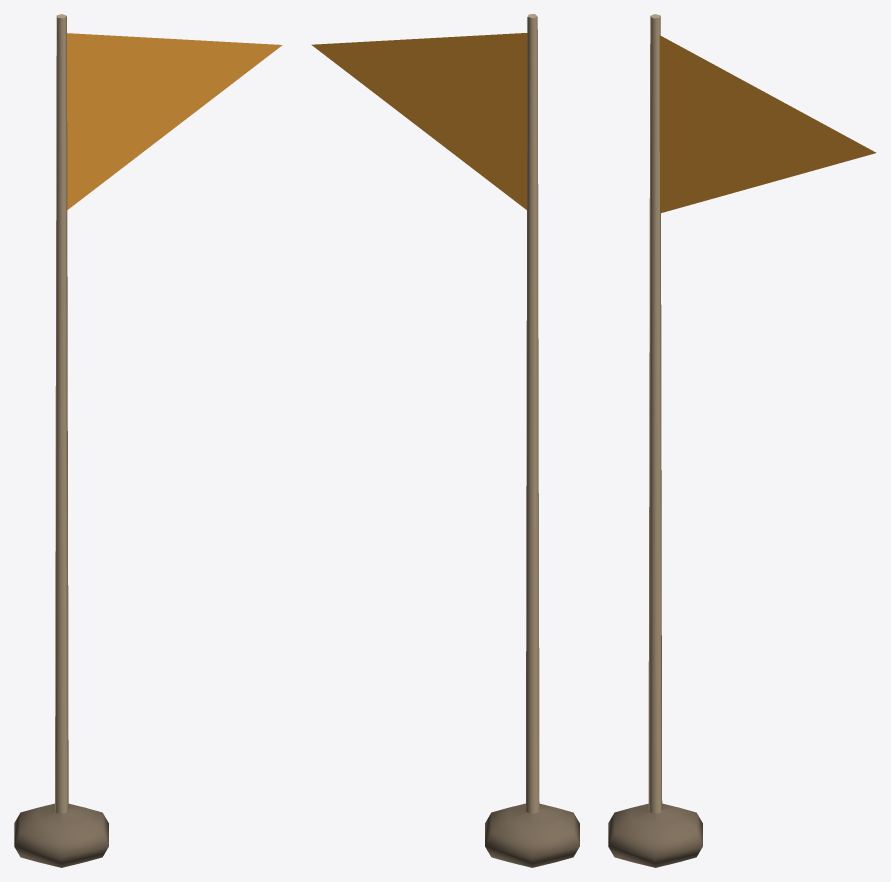
The model's file is cabin_search_flag_a.glb.
3 renders of one model, left to right at view 1: azimuth 30°, elevation 25°; view 2: azimuth 150°, elevation 25°; view 3: azimuth 330°, elevation 25°, orthographic.
Parts seen in each view (by area): view 1: body; view 2: body; view 3: body.
Boxes of the visible parts, <box> form: body: <box>14,14,282,867</box>; body: <box>311,14,579,867</box>; body: <box>608,14,876,867</box>.
Size of the model in its own units: 0.34 by 1.02 by 0.1039.
